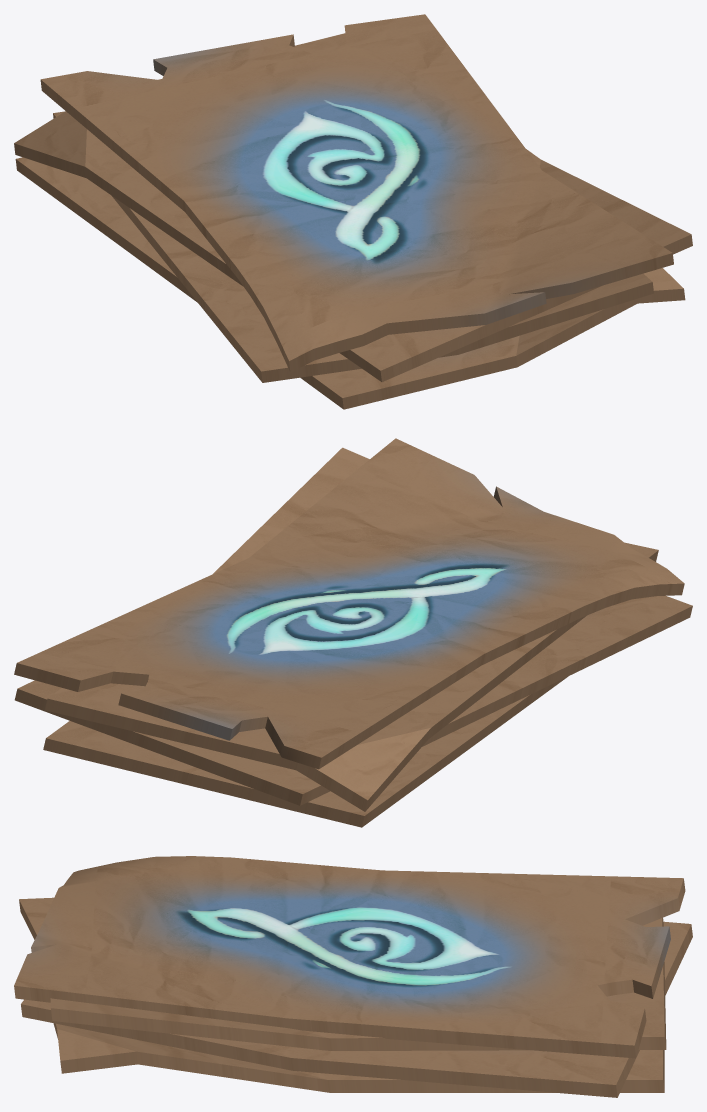
The model's file is lost_chapter.glb.
3 views of the same model, one above another, from view 1: azimuth 30°, elevation 25°; view 2: azimuth 150°, elevation 25°; view 3: azimuth 270°, elevation 25° (orthographic). The views are drawn at different scales.
Parts seen in each view (by area): view 1: Plane.003, Plane.002, Plane.001, Plane; view 2: Plane.003, Plane.002, Plane, Plane.001; view 3: Plane.003, Plane, Plane.001, Plane.002.
Boxes of the visible parts, left/top/right/bottom form: Plane.003: left=40, top=14, right=673, bottom=372; Plane.002: left=14, top=33, right=692, bottom=381; Plane.001: left=15, top=157, right=685, bottom=409; Plane: left=53, top=111, right=653, bottom=382; Plane.003: left=14, top=438, right=684, bottom=769; Plane.002: left=45, top=447, right=658, bottom=811; Plane: left=14, top=595, right=692, bottom=805; Plane.001: left=43, top=676, right=568, bottom=827; Plane.003: left=14, top=856, right=685, bottom=1058; Plane: left=21, top=921, right=692, bottom=1097; Plane.001: left=53, top=1023, right=664, bottom=1092; Plane.002: left=19, top=897, right=666, bottom=1050.
Bounding box in the file's own units: 1.63 × 0.3225 × 2.21.
Materials: 1 (1 with a texture image).
